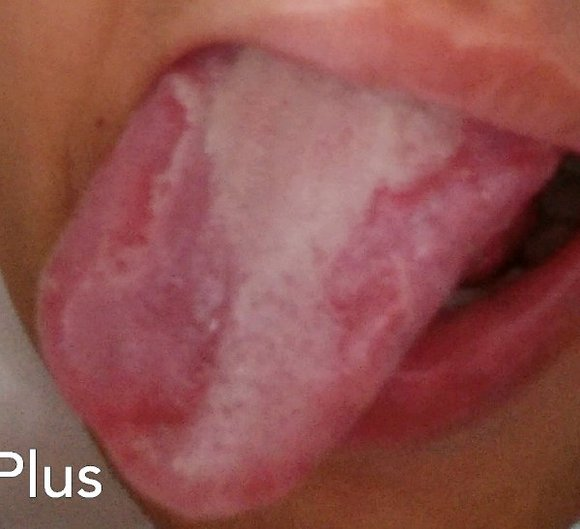baitaishe: (37, 43, 564, 519)
botaishe: (38, 71, 231, 431), (316, 110, 558, 378)
hongshe: (36, 43, 563, 519)
